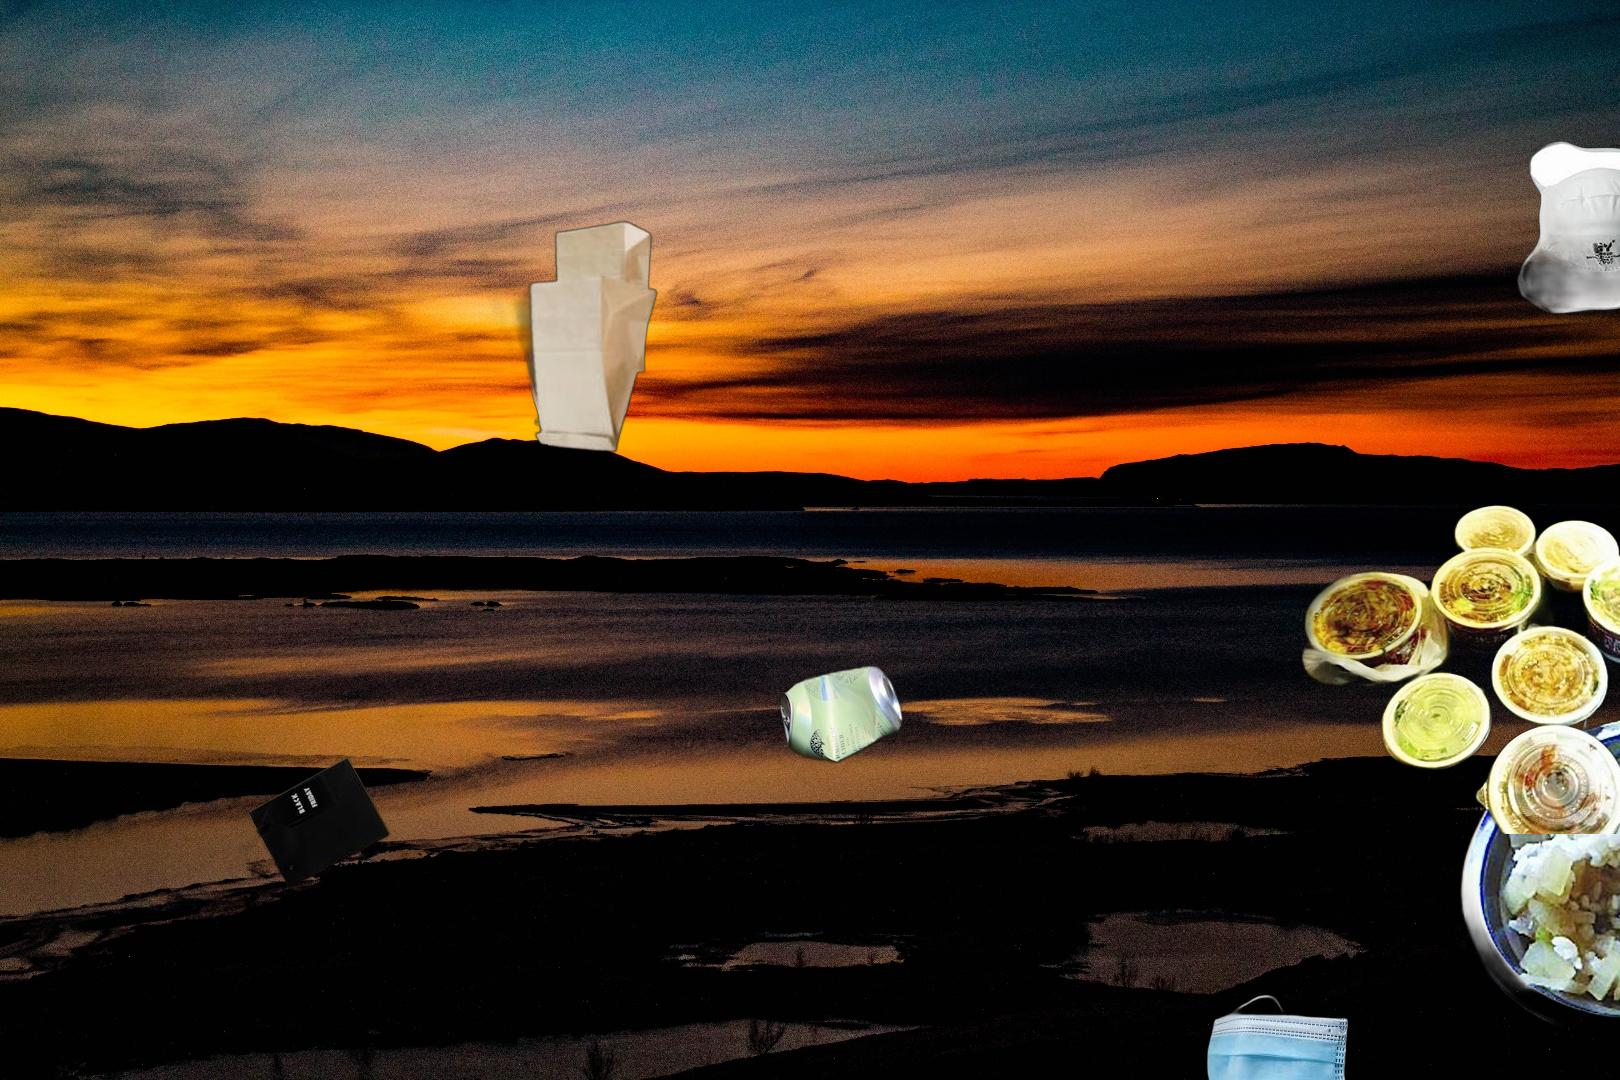biological: (1282, 501, 1620, 834), (1444, 712, 1620, 1080)
metal-cans: (775, 659, 1084, 1057)
paper-bag: (446, 164, 661, 454), (199, 756, 393, 890)
trash: (1518, 139, 1620, 315), (1204, 992, 1364, 1080)
